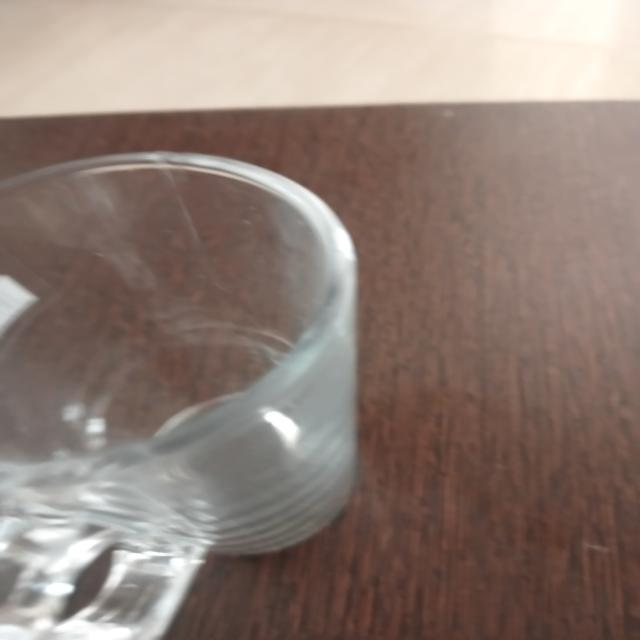glass-VX4N: (7, 148, 355, 640)
